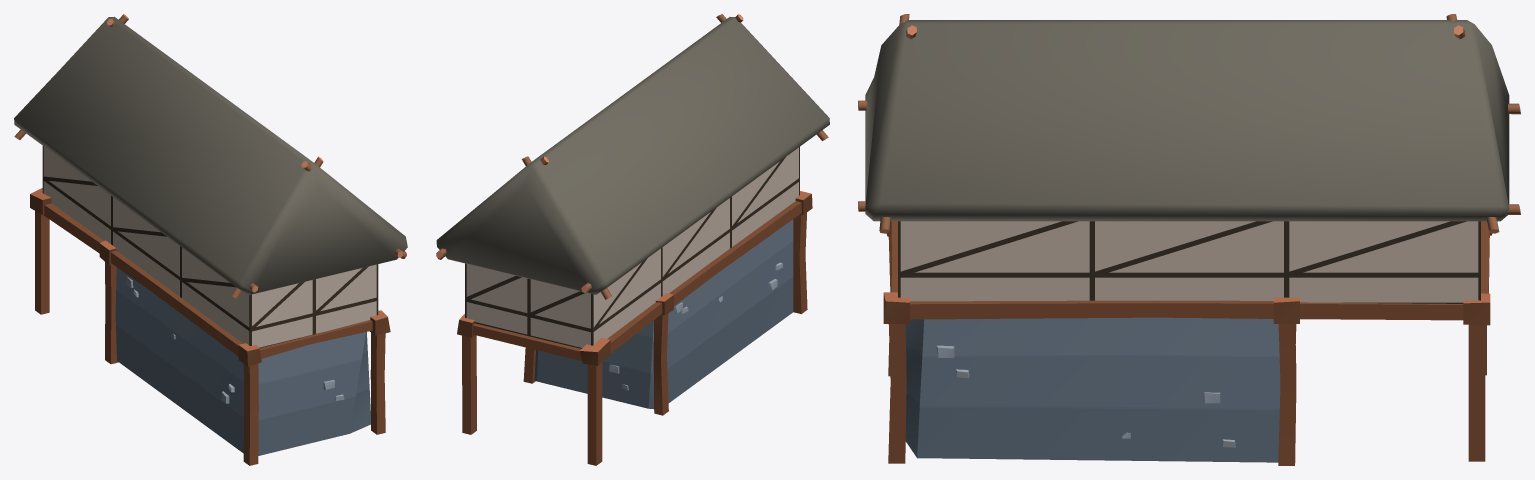
The model's file is house-ver6-large.glb.
3 renders of one model, left to right at view 1: azimuth 30°, elevation 25°; view 2: azimuth 150°, elevation 25°; view 3: azimuth 270°, elevation 25°, orthographic. The views are drawn at different scales.
Parts seen in each view (by area): view 1: House-ver6-large_Texture-base_0; view 2: House-ver6-large_Texture-base_0; view 3: House-ver6-large_Texture-base_0.
Part boxes in pixels (x1,y1,x2,y2): House-ver6-large_Texture-base_0: [14, 14, 407, 465]; House-ver6-large_Texture-base_0: [436, 14, 829, 465]; House-ver6-large_Texture-base_0: [858, 14, 1520, 465].
Size of the model in its own units: 6.23 by 9.7 by 14.58.
Materials: 1 (1 with a texture image).
